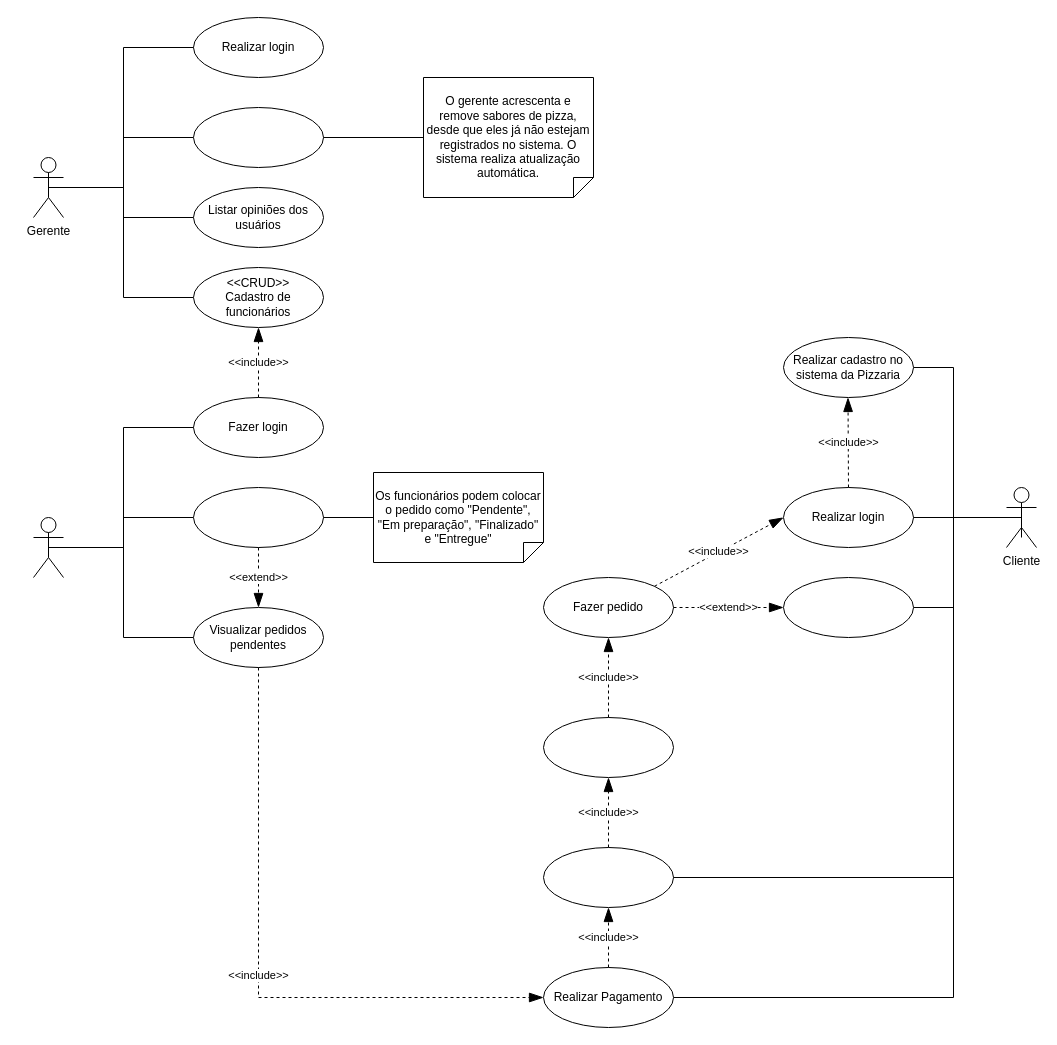
The diagram is 1057 pixels wide and 1045 high, and some of its shapes have lost their labels. The box of each missing label's shape, as (x1, y1, x2, y2) in pixels:
<<CRUD>> Sabores de Pizza disponíveis: (192, 106, 324, 168)
Alterar status dos pedidos: (192, 486, 324, 548)
Escolher forma de pagamento: (542, 846, 674, 908)
Finalizar Pedido: (542, 716, 674, 778)
Funcionário: (32, 516, 64, 578)
Visualizar cardápio: (782, 576, 914, 638)
